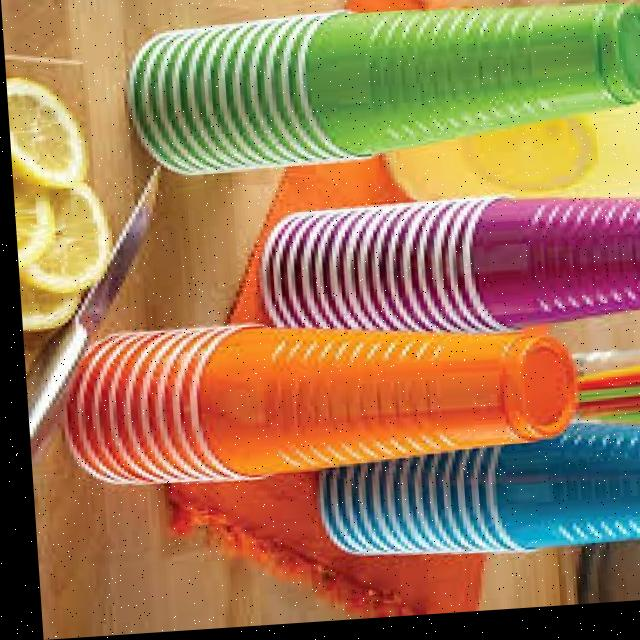cup: (181, 306, 575, 498), (285, 0, 640, 179)
